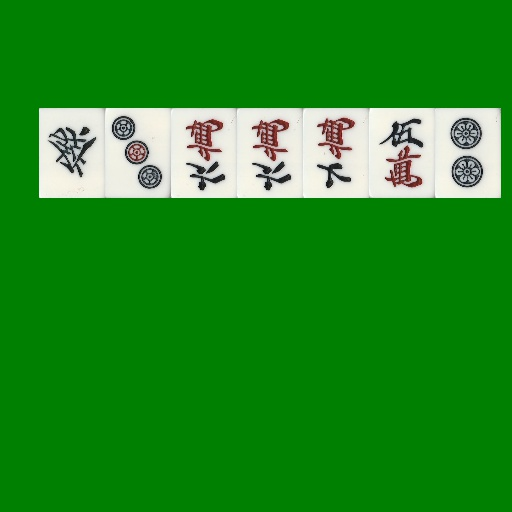2p: (435, 108, 501, 198)
3p: (105, 108, 171, 198)
5m: (369, 108, 435, 198)
6m: (171, 108, 237, 198), (237, 108, 303, 198)
7m: (303, 108, 369, 198)
hatsu: (39, 108, 105, 198)
